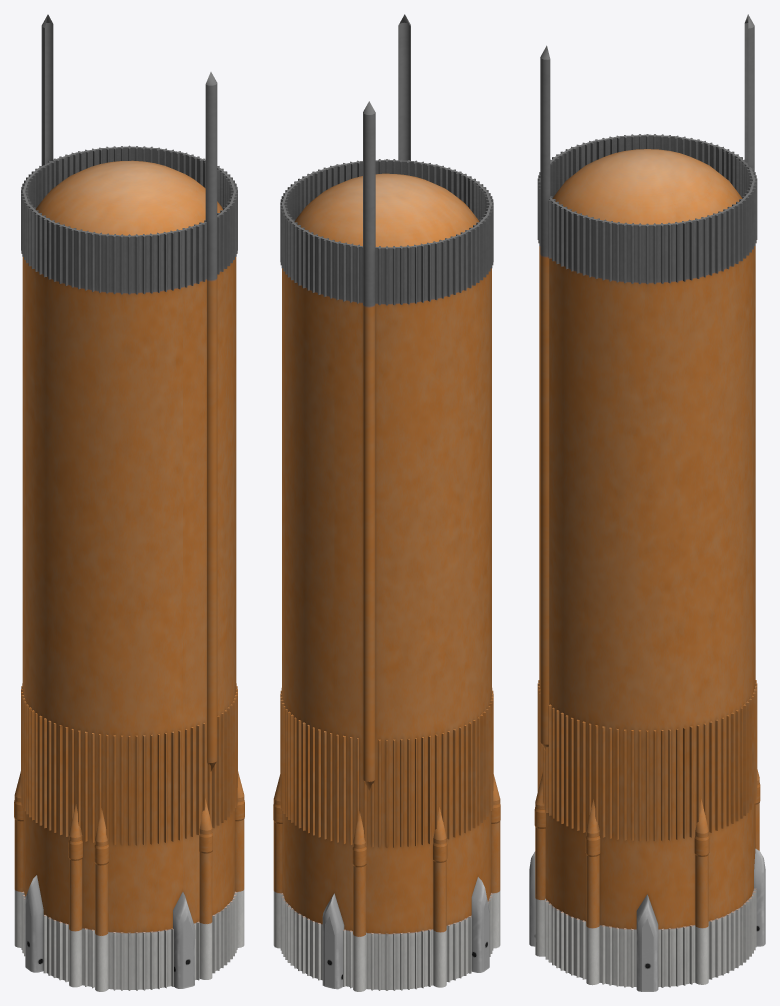
File: ksprocket.fbx
The picture shows the model from 3 angles, left to right: view 1: azimuth 30°, elevation 25°; view 2: azimuth 150°, elevation 25°; view 3: azimuth 270°, elevation 25°; orthographic projection. The views are drawn at different scales.
Visible parts, largest first — view 1: tank.008, bits.006; view 2: tank.008, bits.006; view 3: tank.008, bits.006.
Part boxes in pixels (bbox=[...]): tank.008: bbox=[21, 145, 237, 990]; bits.006: bbox=[14, 14, 244, 991]; tank.008: bbox=[280, 159, 493, 990]; bits.006: bbox=[273, 14, 500, 991]; tank.008: bbox=[537, 134, 757, 987]; bits.006: bbox=[529, 14, 765, 991].
Bounding box in the file's own units: 1103 × 4809 × 1103.
